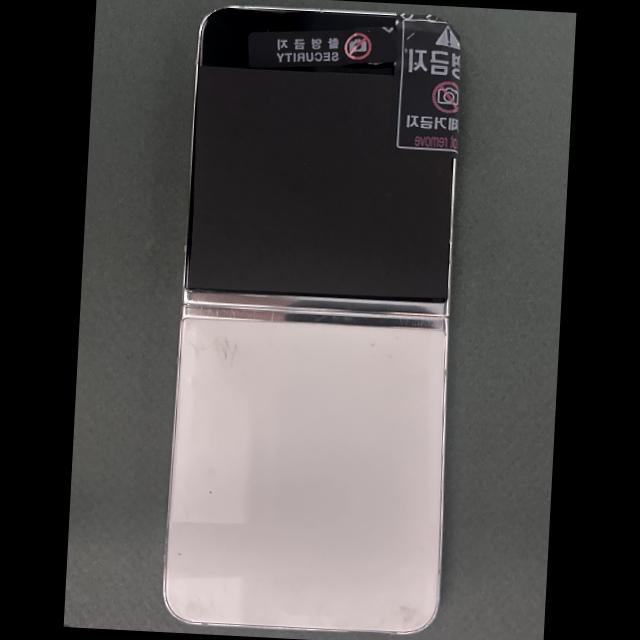phone: (164, 7, 459, 633)
sticker: (389, 13, 461, 159), (248, 26, 395, 71)
